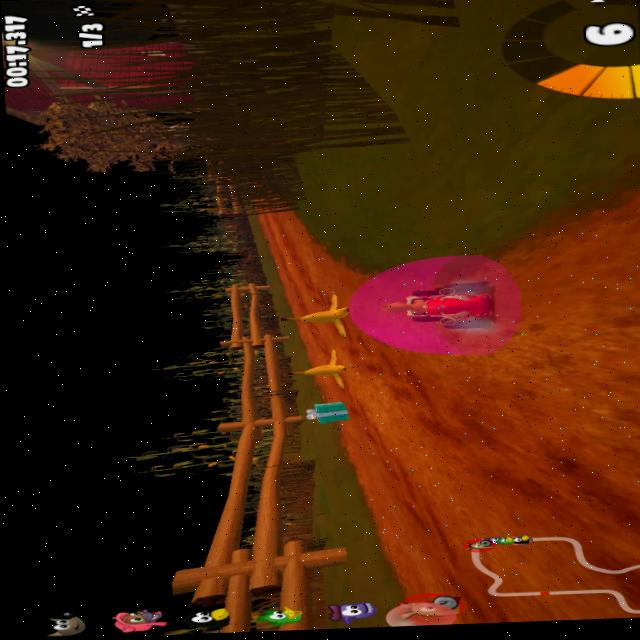bonus: (303, 396, 359, 430)
obstacle: (292, 296, 354, 332), (309, 350, 354, 386)
track: (374, 354, 640, 537), (518, 218, 640, 351), (389, 534, 452, 587), (296, 251, 335, 295), (264, 213, 291, 267), (341, 432, 363, 486), (302, 337, 350, 347), (286, 267, 295, 293)
